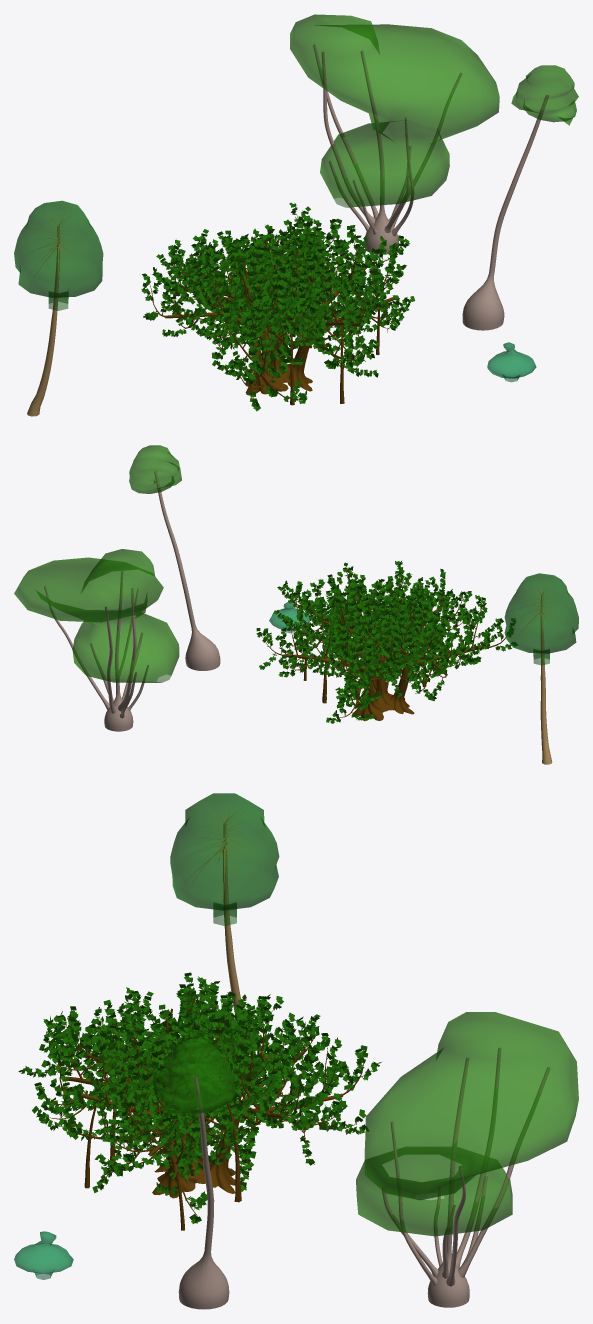
File: tree1.FBX
3 renders of one model, top to bottom at view 1: azimuth 30°, elevation 25°; view 2: azimuth 150°, elevation 25°; view 3: azimuth 270°, elevation 25°, orthographic. The views are drawn at different scales.
Visible parts, largest first — view 1: Foliage001, Foliage005, Foliage002, Foliage003, Foliage004; view 2: Foliage001, Foliage005, Foliage002, Foliage003, Foliage004; view 3: Foliage001, Foliage005, Foliage002, Foliage003, Foliage004.
Boxes of the visible parts, <box> form: Foliage001: <box>141,202,415,411</box>; Foliage005: <box>290,14,499,254</box>; Foliage002: <box>14,200,103,416</box>; Foliage003: <box>462,65,578,330</box>; Foliage004: <box>487,342,536,382</box>; Foliage001: <box>256,561,517,723</box>; Foliage005: <box>14,549,179,731</box>; Foliage002: <box>504,573,578,764</box>; Foliage003: <box>129,445,220,670</box>; Foliage004: <box>269,602,309,633</box>; Foliage001: <box>18,972,381,1230</box>; Foliage005: <box>356,1012,578,1307</box>; Foliage002: <box>170,793,279,1014</box>; Foliage003: <box>157,1038,236,1309</box>; Foliage004: <box>14,1231,73,1279</box>.
Bounding box in the file's own units: 225 × 95.6 × 163.
